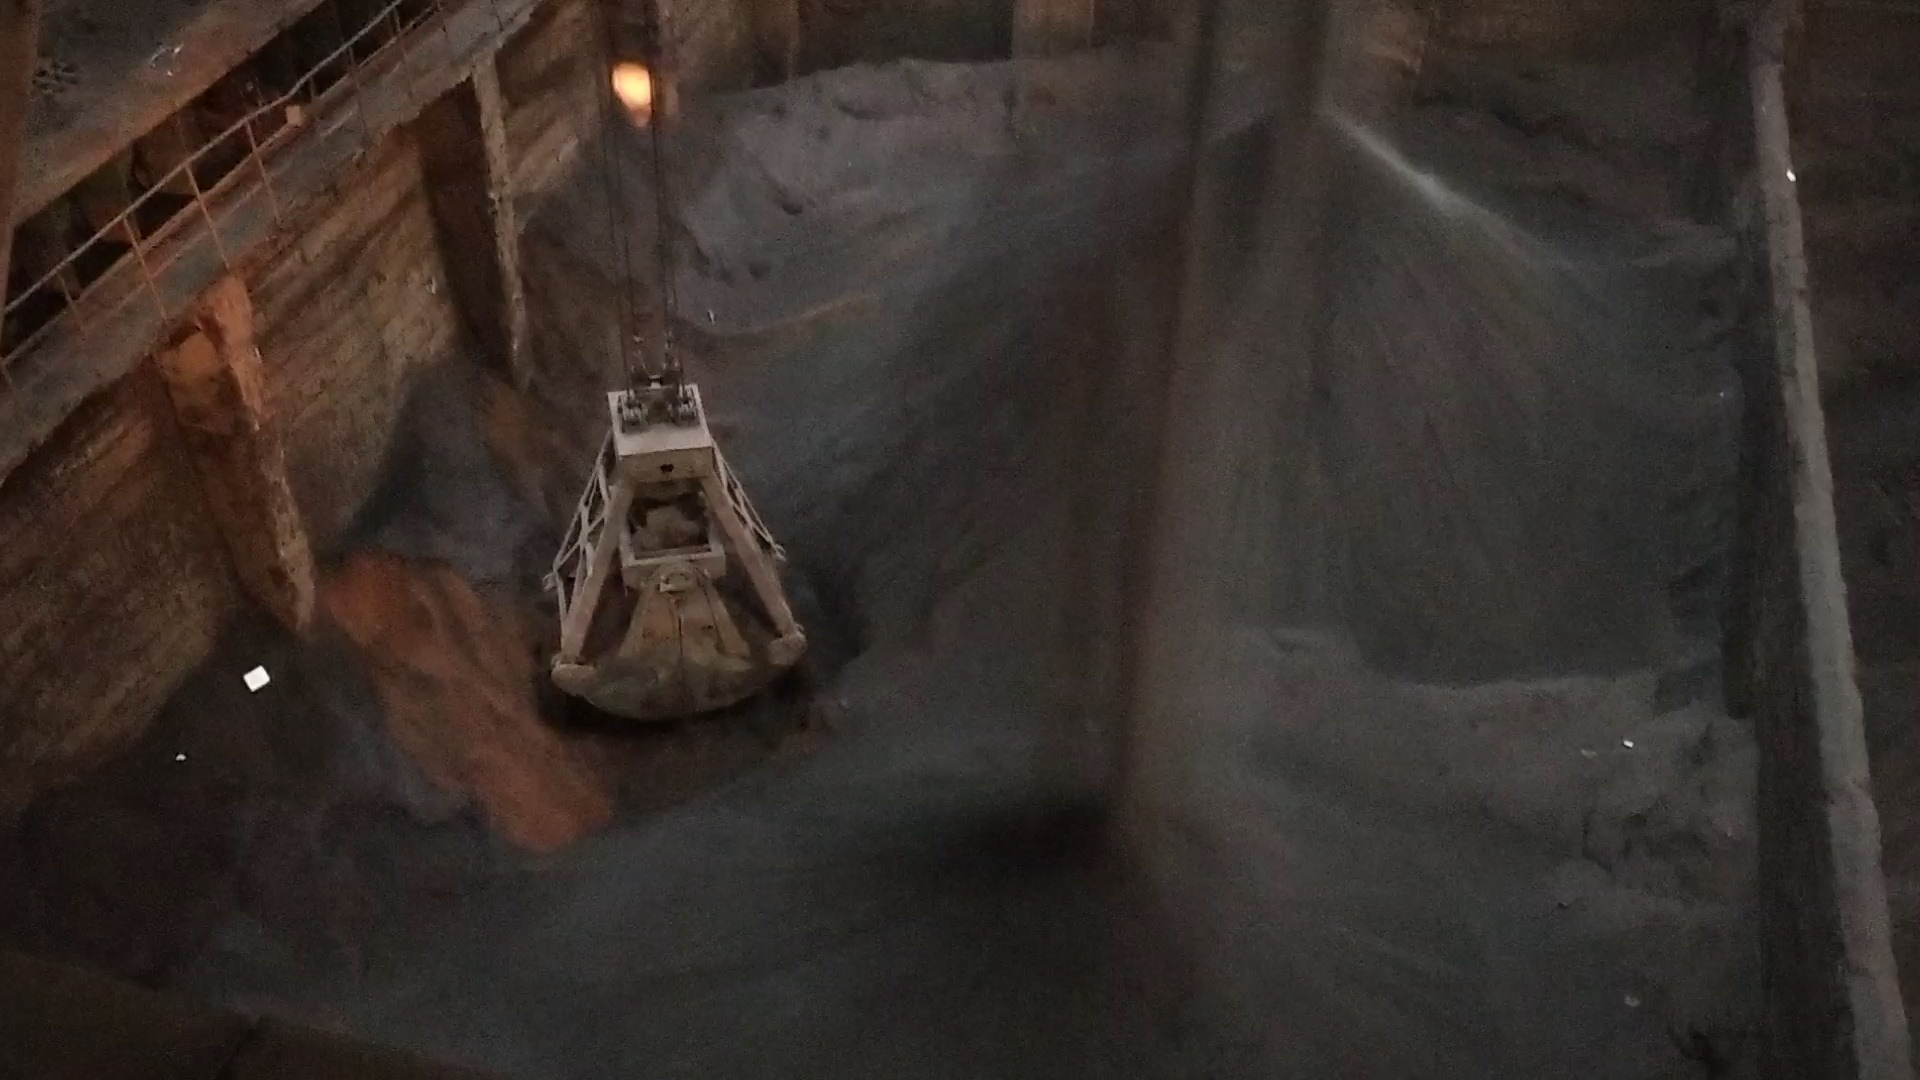grab: (527, 344, 810, 725)
